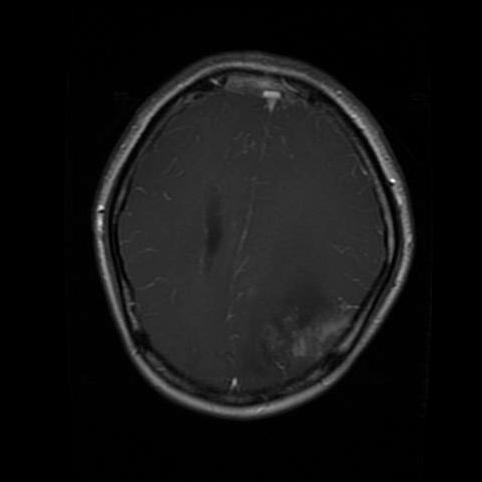Tumour-Glioma: (243, 294, 351, 368)
